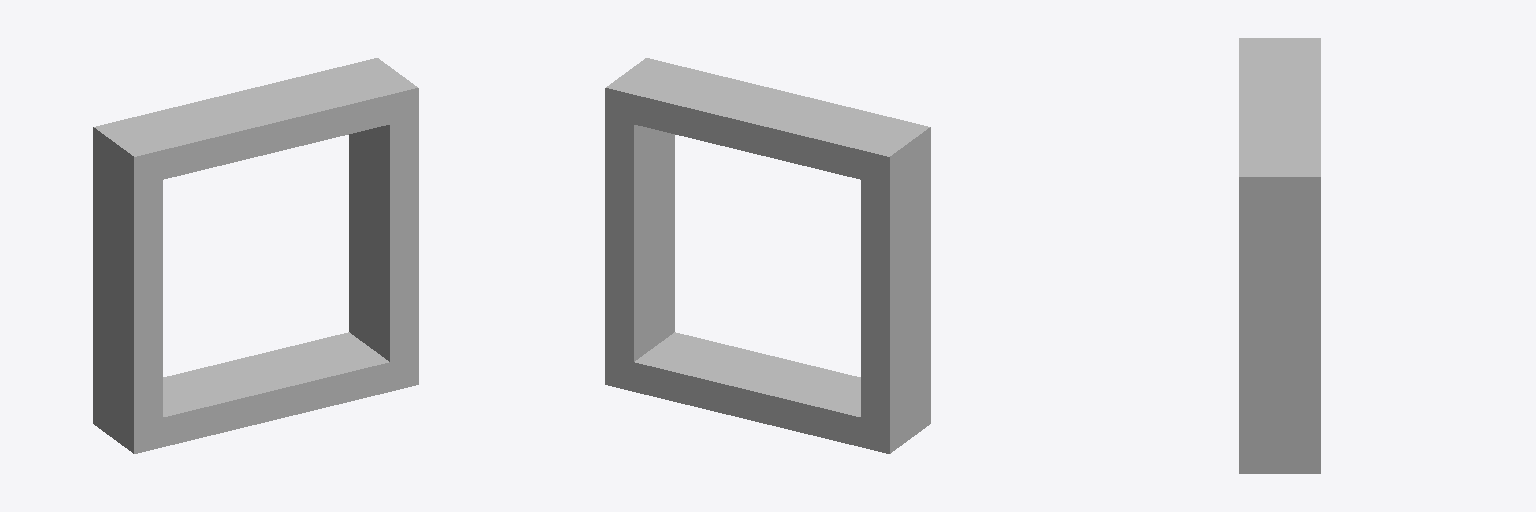
File: fanBox.obj
3 renders of one model, left to right at view 1: azimuth 30°, elevation 25°; view 2: azimuth 150°, elevation 25°; view 3: azimuth 270°, elevation 25°, orthographic.
Parts seen in each view (by area): view 1: Cube; view 2: Cube; view 3: Cube.
Part boxes in pixels (x1,y1,x2,y2): Cube: (93,58,418,453); Cube: (605,58,930,453); Cube: (1239,38,1320,473).
Bounding box in the file's own units: 2 × 2 × 0.5.